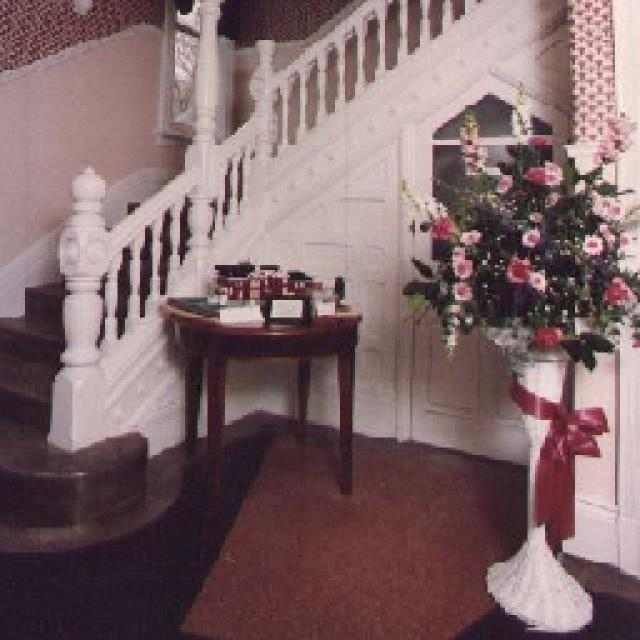door opening: (405, 68, 565, 465)
floor -X: (0, 408, 638, 635)
flowers in pot: (402, 105, 630, 365)
handrail: (48, 0, 515, 448)
staircase: (0, 278, 180, 572)
table -X: (162, 290, 360, 502)
vase -X: (485, 350, 592, 632)
wall clock: (252, 0, 565, 470), (560, 0, 637, 572), (105, 225, 260, 452)
